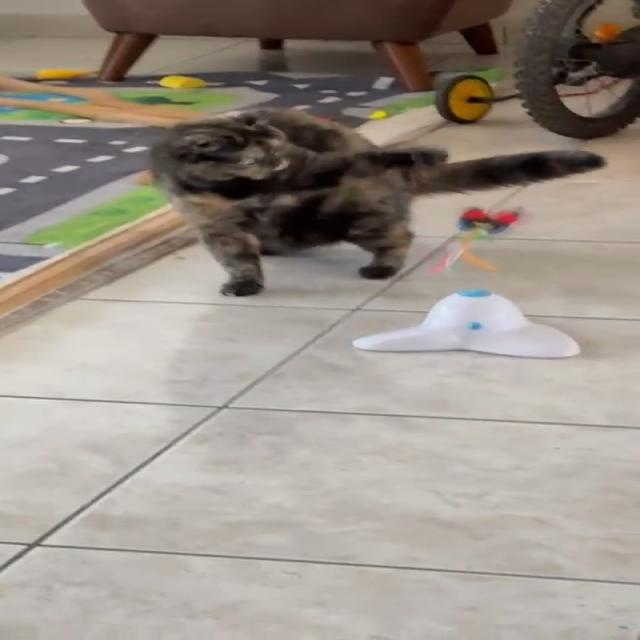authorized: (145, 106, 607, 298)
